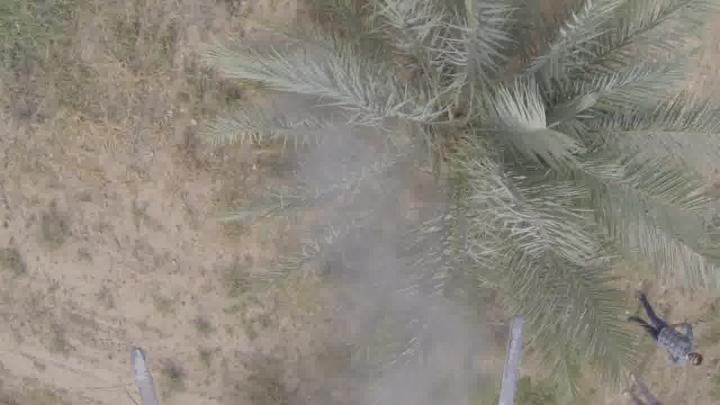Date-Palm-Crown: (350, 1, 628, 314)
